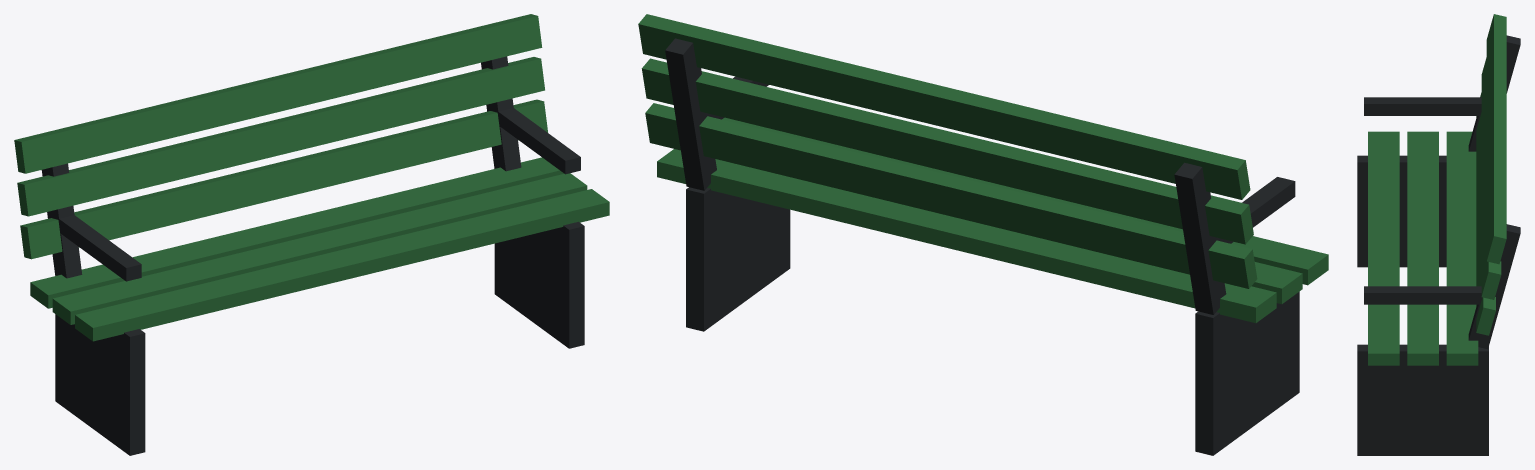
The model's file is town_mw_bench.glb.
3 views of the same model, side by side, from view 1: azimuth 30°, elevation 25°; view 2: azimuth 150°, elevation 25°; view 3: azimuth 270°, elevation 25° (orthographic). The views are drawn at different scales.
Visible parts, largest first — view 1: TownMwBench_body; view 2: TownMwBench_body; view 3: TownMwBench_body.
Boxes of the visible parts, bbox=[...] form: TownMwBench_body: bbox=[14, 14, 609, 455]; TownMwBench_body: bbox=[638, 14, 1328, 455]; TownMwBench_body: bbox=[1357, 14, 1520, 455].
Size of the model in its own units: 2 by 0.9795 by 0.6206.
